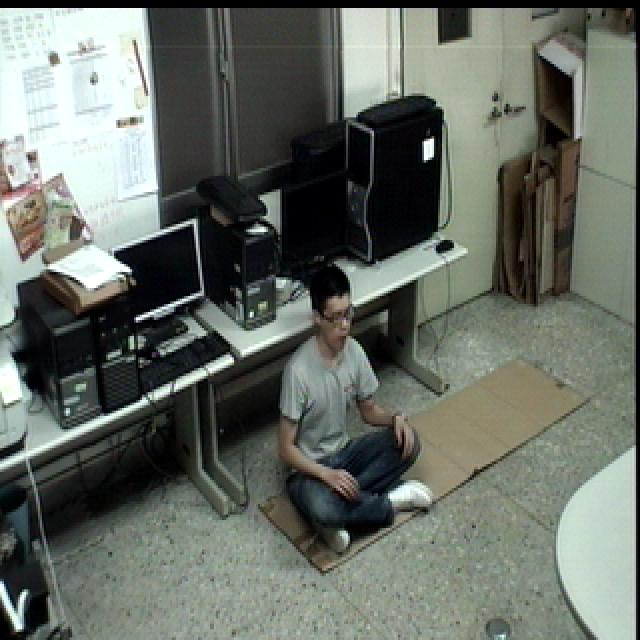sit: (273, 262, 436, 553)
